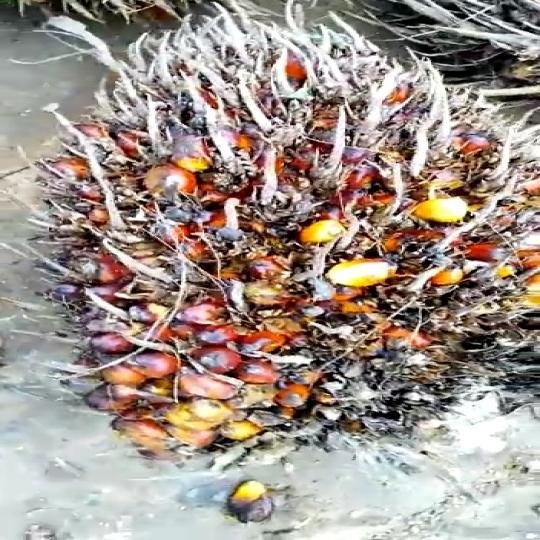terlalu masak: (0, 0, 540, 461)
